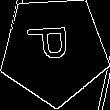P_E: (28, 31, 80, 70)
